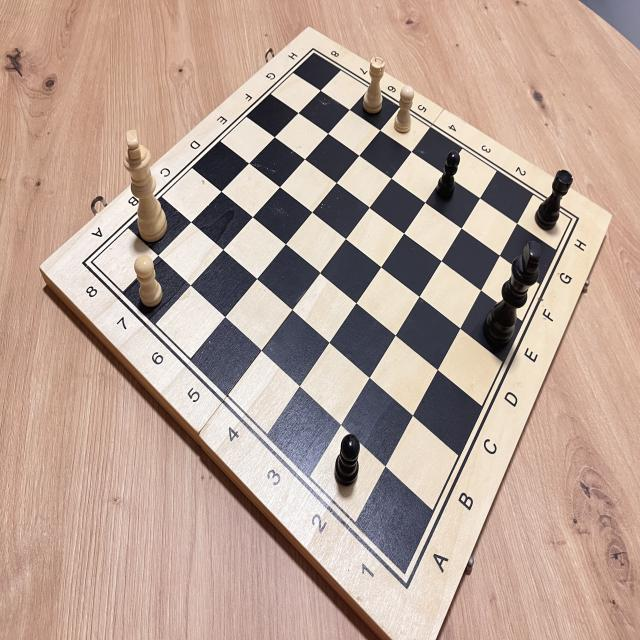black-king: (472, 233, 549, 357)
black-pawn: (328, 433, 368, 497), (434, 149, 465, 213)
black-rook: (531, 162, 578, 236)
white-king: (116, 116, 172, 247)
white-pawn: (129, 251, 168, 312), (390, 83, 418, 139)
white-rook: (359, 50, 389, 125)
